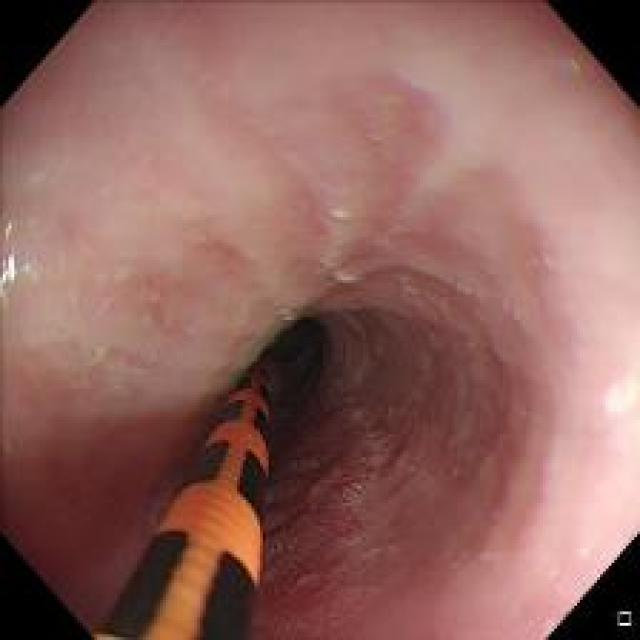color misalignment: (2, 212, 22, 295), (555, 50, 595, 80)
contrast: (230, 315, 350, 454)
instrument: (89, 369, 280, 634)
saturation: (502, 325, 638, 525)
specularity: (590, 370, 636, 422), (4, 249, 16, 275)
